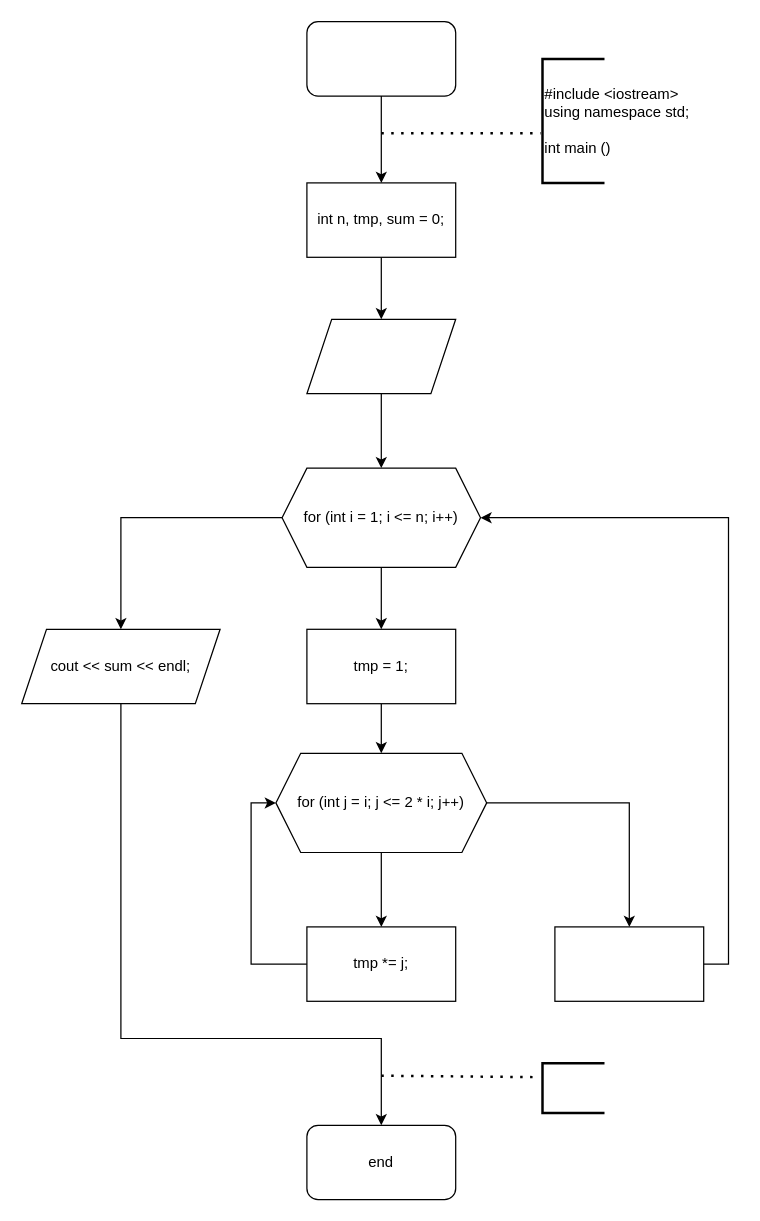
This 760x1221 diagram has some shape labels left out. The shapes that lost their labels are listed below. From the top down, each one's centre as x and y in pixels, then its label:
At point 381,58: "start".
At point 381,356: "cin >> n;".
At point 629,963: "sum += tmp;".
At point 573,1087: "return 0;".
